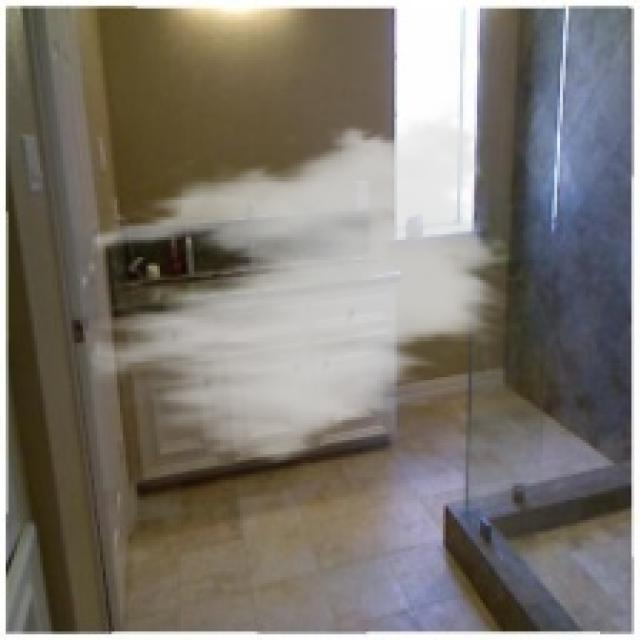Smoke: (92, 100, 514, 474)
